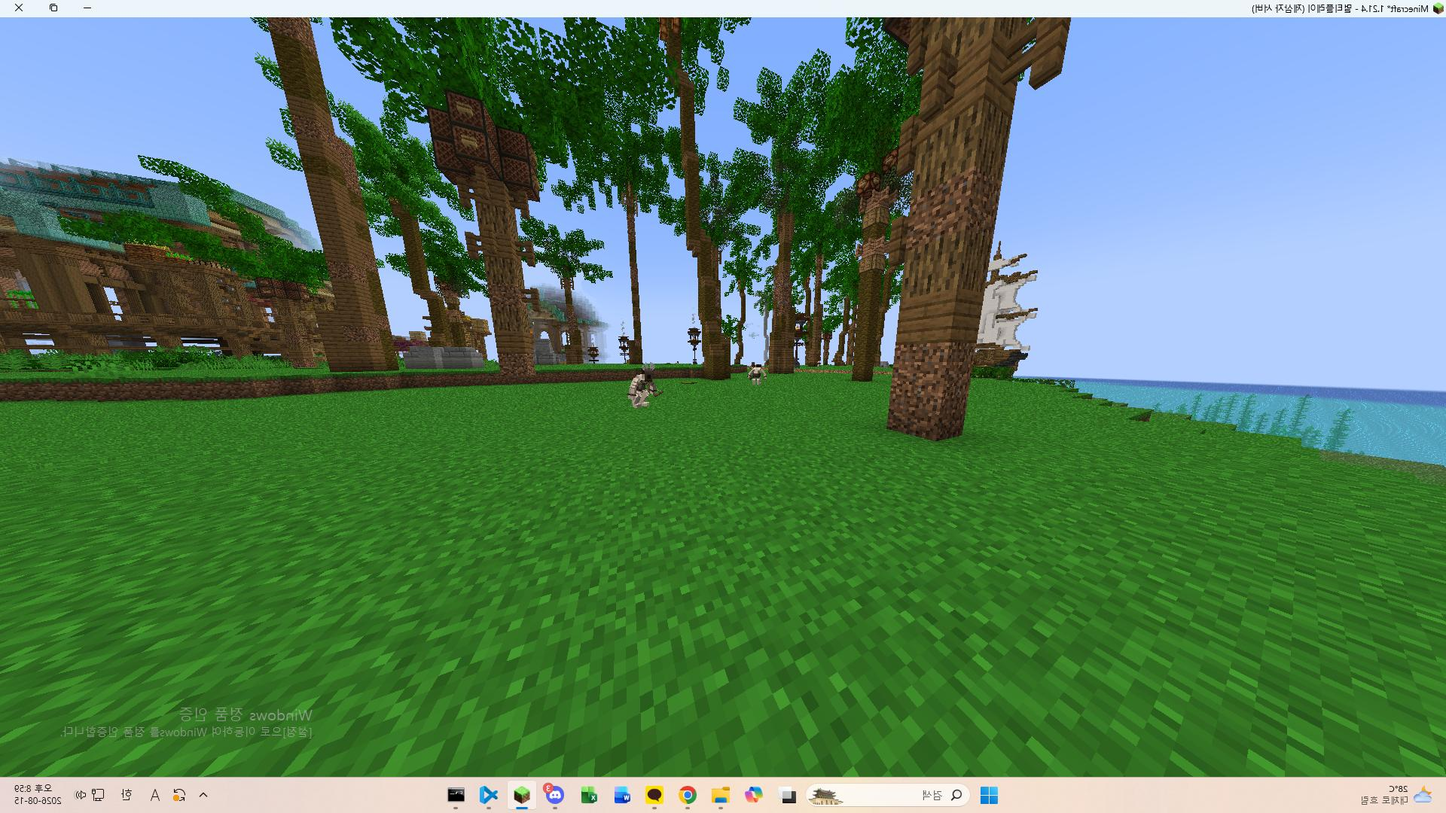bow_indian: (615, 358, 672, 418)
